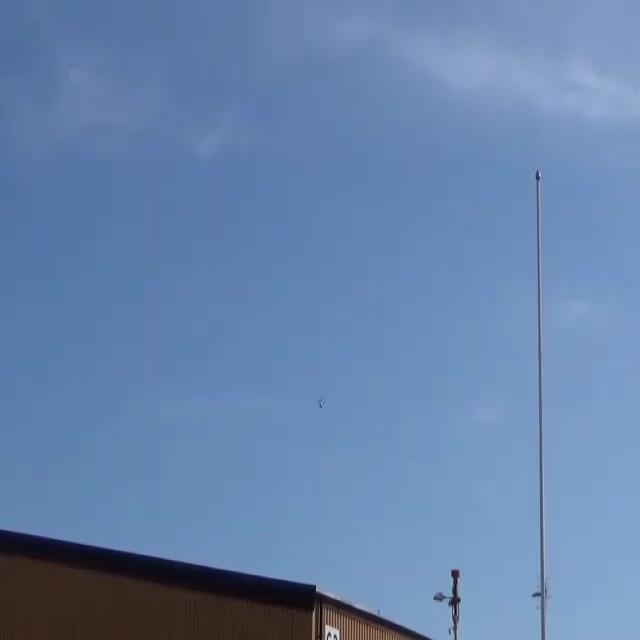Helicopter: (304, 378, 336, 421)
